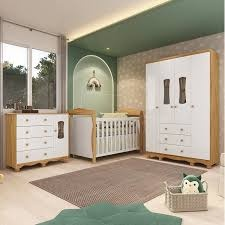crib: (69, 108, 145, 164)
